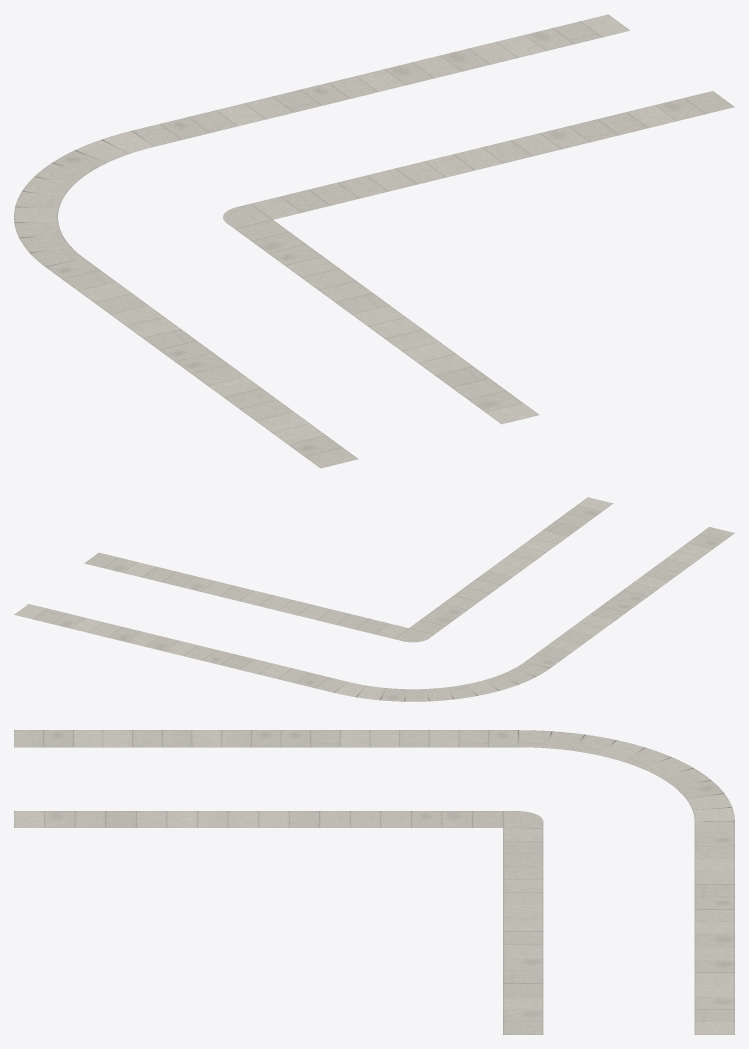
File: paving_p1_TurnSE.gltf
3 views of the same model, one above another, from view 1: azimuth 30°, elevation 25°; view 2: azimuth 150°, elevation 25°; view 3: azimuth 270°, elevation 25° (orthographic). The views are drawn at different scales.
Parts seen in each view (by area): view 1: paving_p1_TurnSE; view 2: paving_p1_TurnSE; view 3: paving_p1_TurnSE.
Part boxes in pixels (x1,y1,x2,y2): paving_p1_TurnSE: (14, 14, 734, 468); paving_p1_TurnSE: (14, 497, 734, 701); paving_p1_TurnSE: (14, 730, 734, 1034).
Size of the model in its own units: 35.75 by 0 by 35.75.
Materials: 1 (1 with a texture image).
